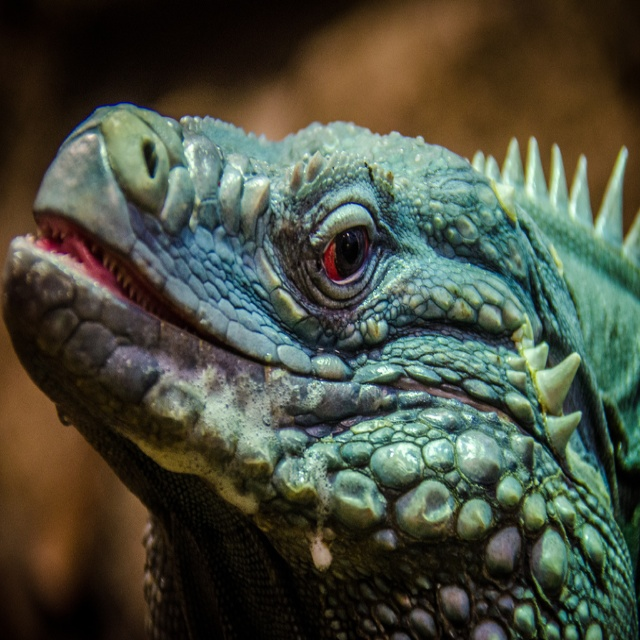Lizard: (24, 91, 640, 640)
